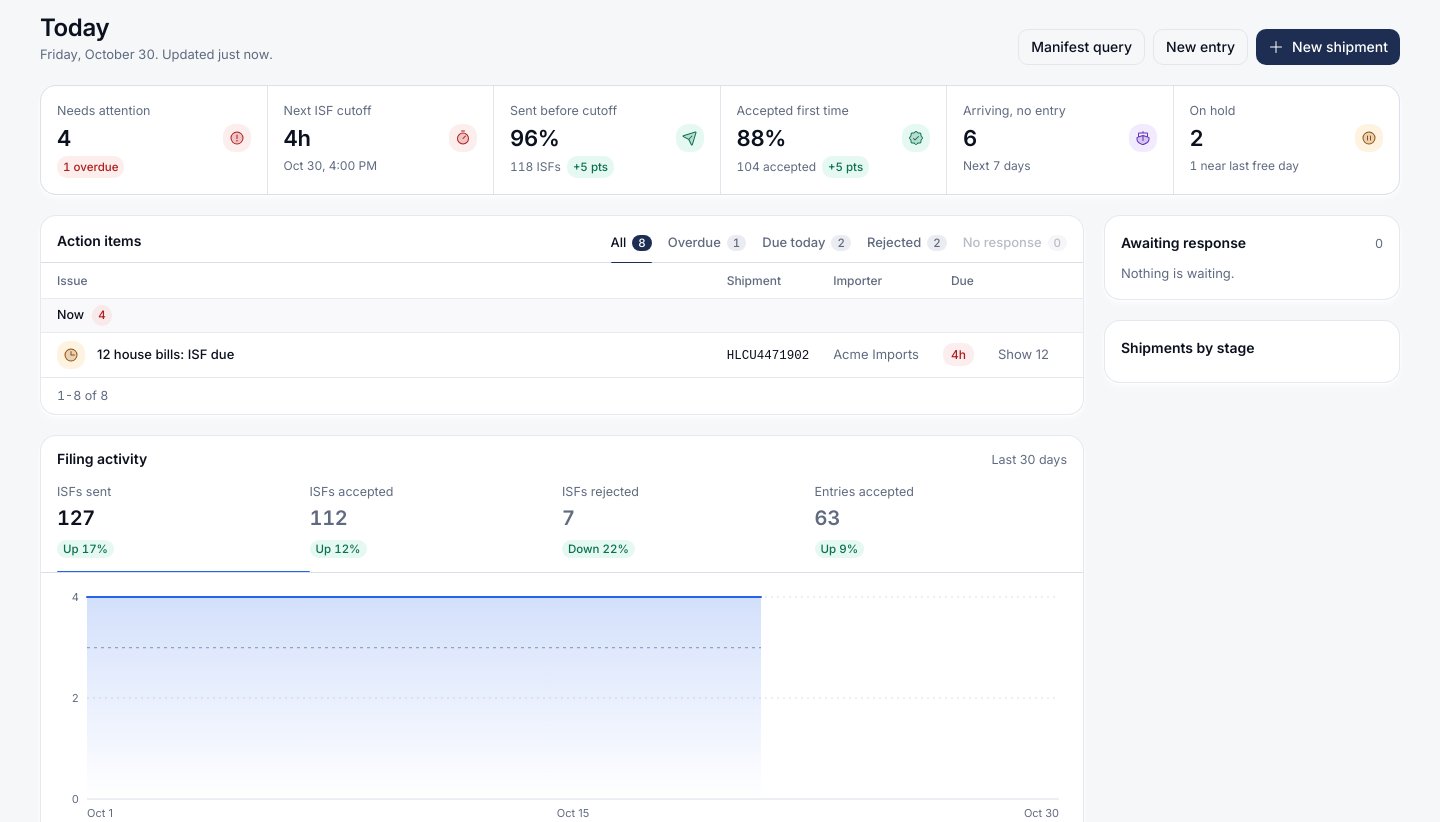
DashboardHome › expands a group into its house bills
Click the button "12 house bills: ISF due" at (166,354), box top-left (97, 344), bottom-right (703, 365)
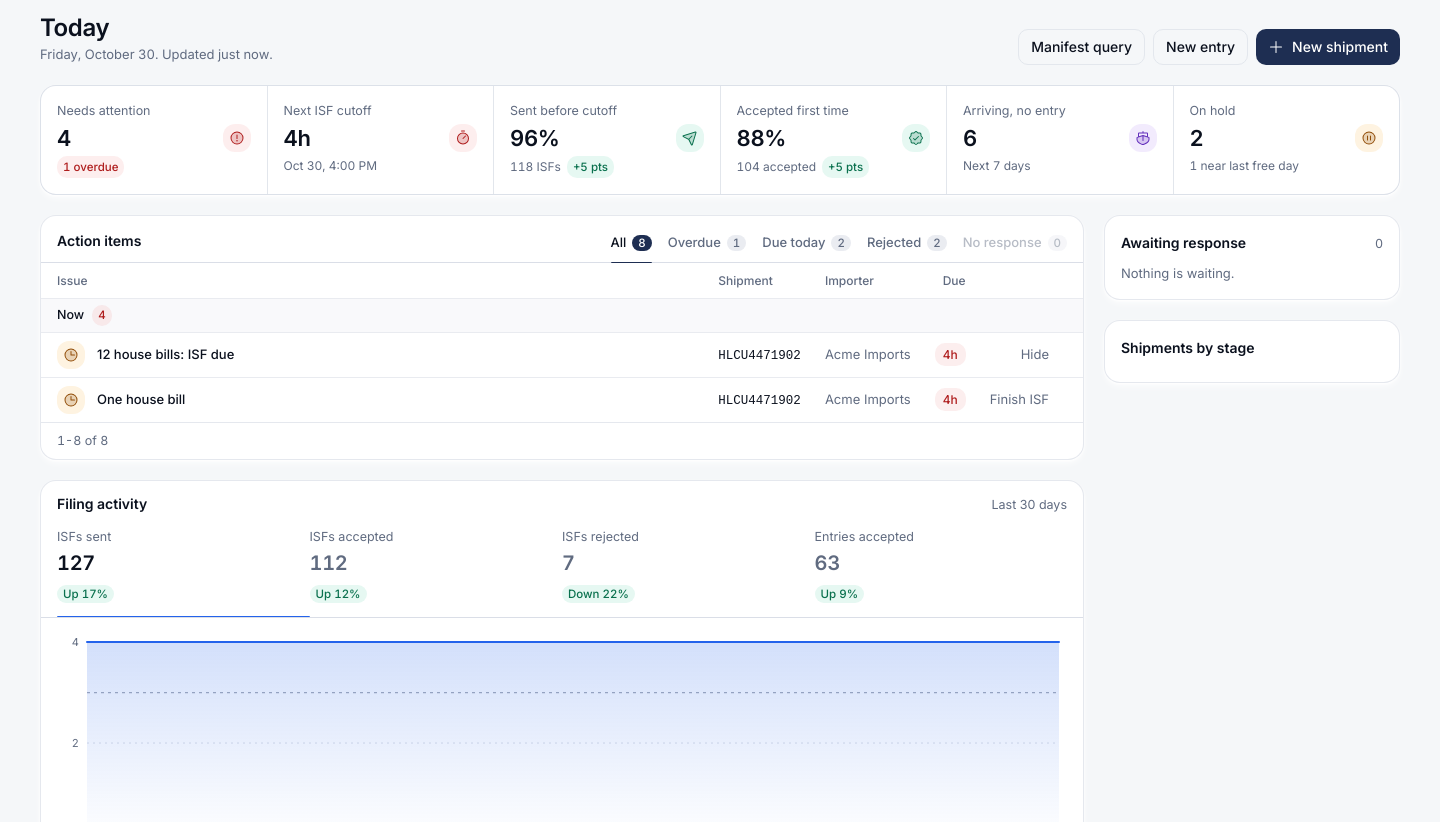
Check: the link "One house bill" is shown, box top-left (97, 391), bottom-right (185, 407)
